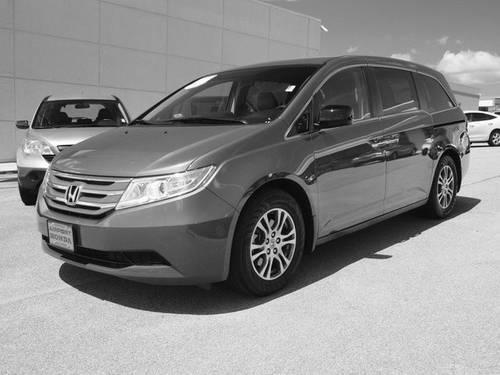car: (37, 55, 475, 297)
